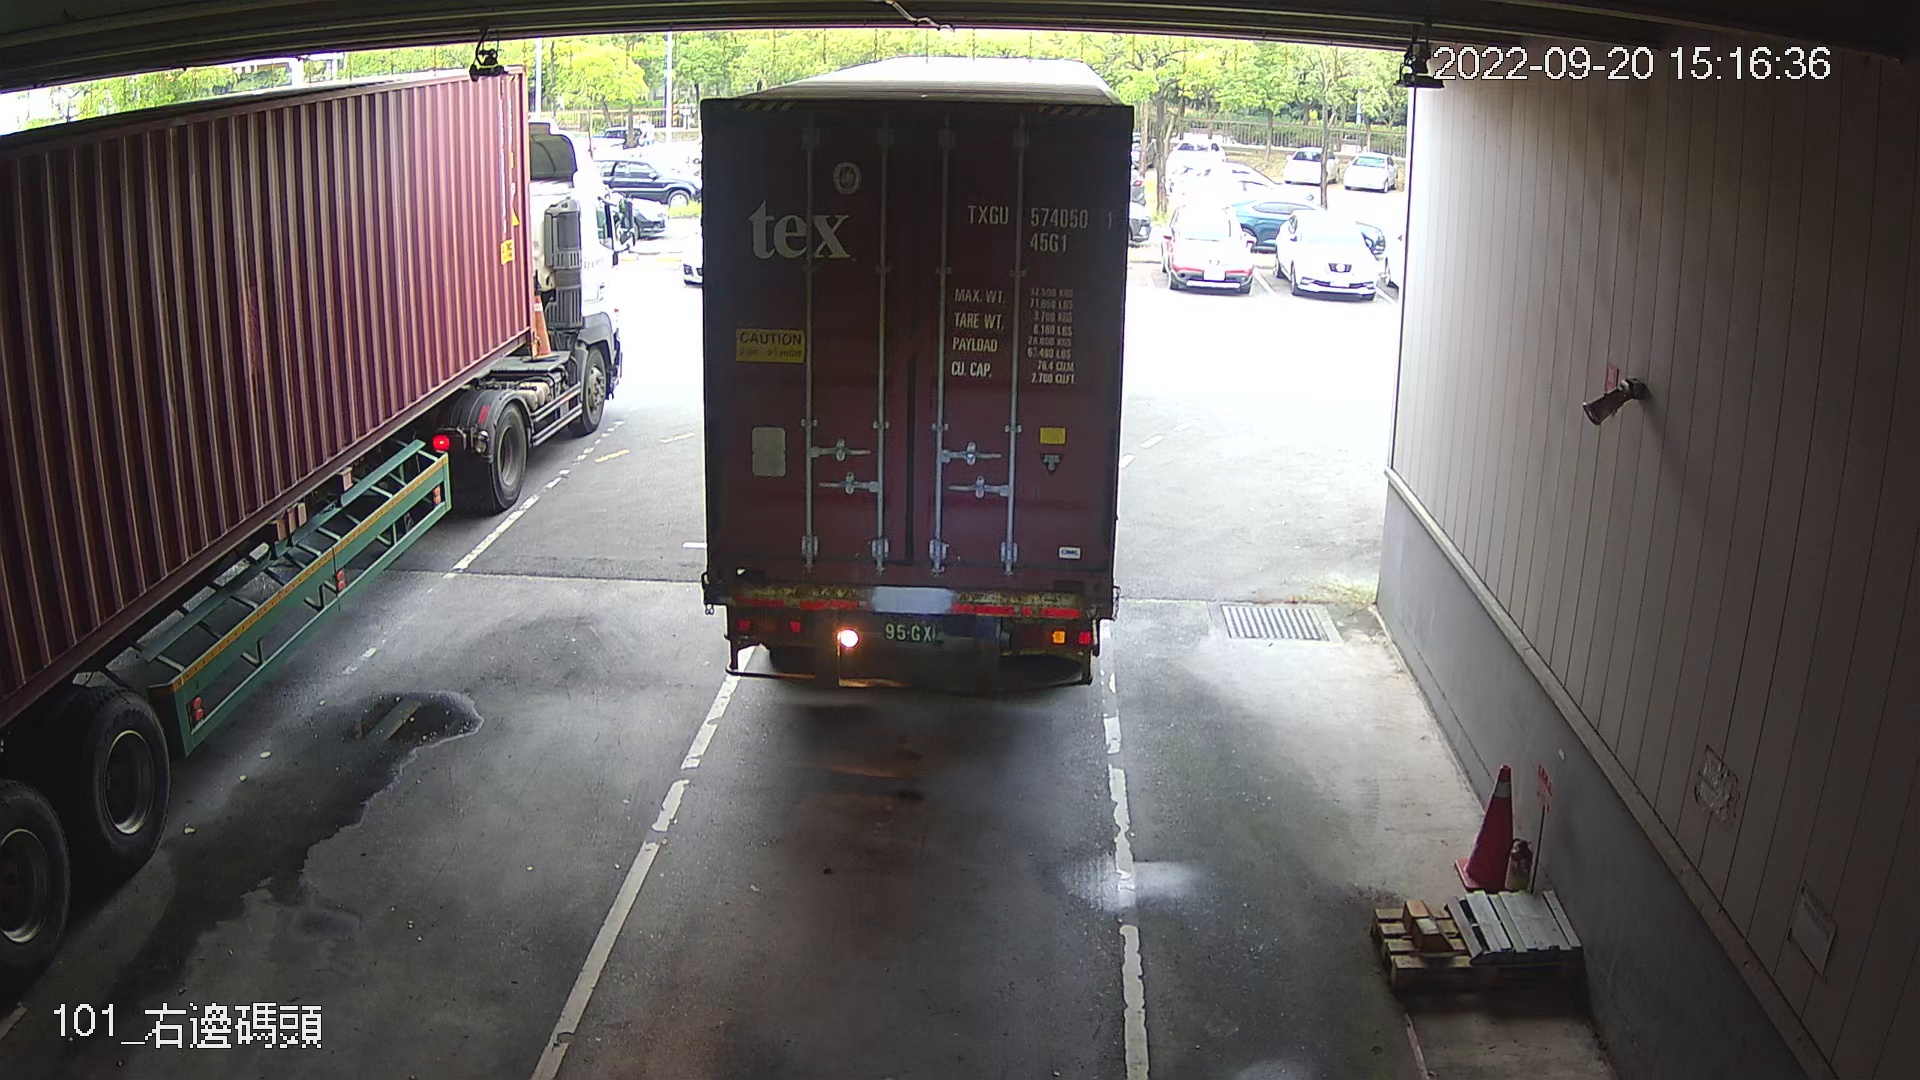container: (957, 194, 1120, 261)
